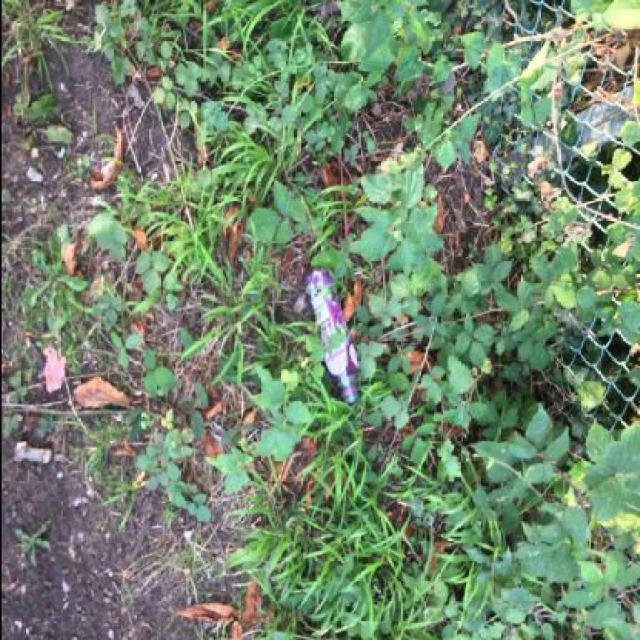plastic: (302, 266, 360, 405)
